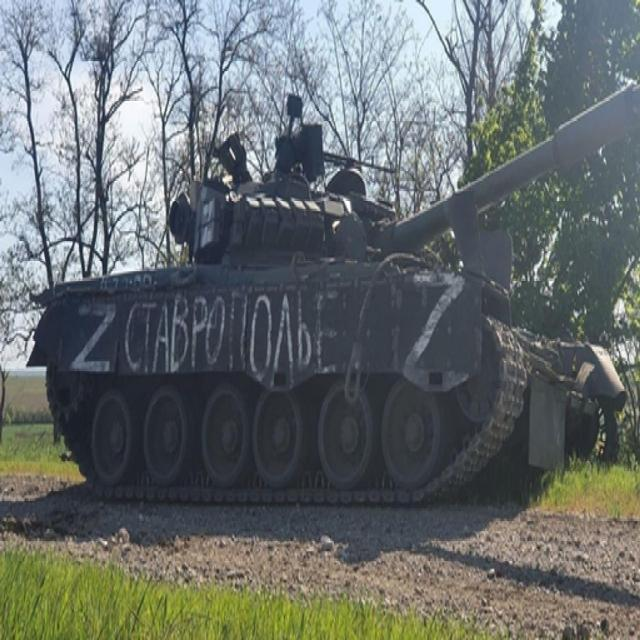TANK: (22, 80, 638, 518)
